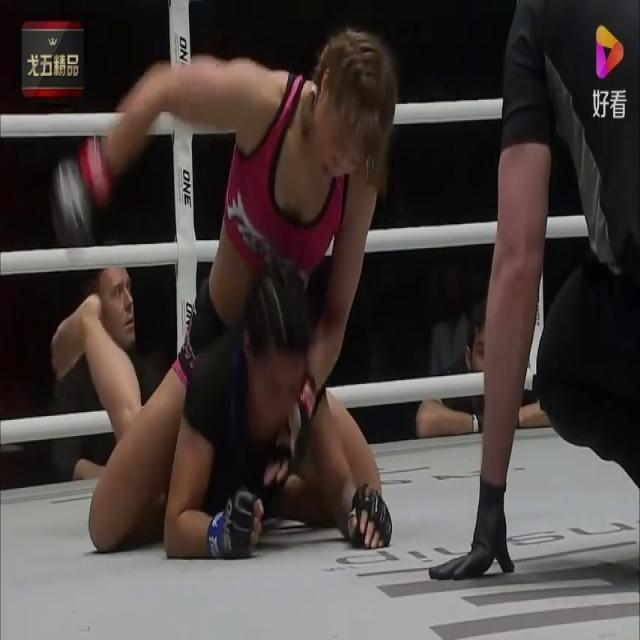fight: (57, 1, 409, 582)
non-fight: (440, 0, 639, 631)
